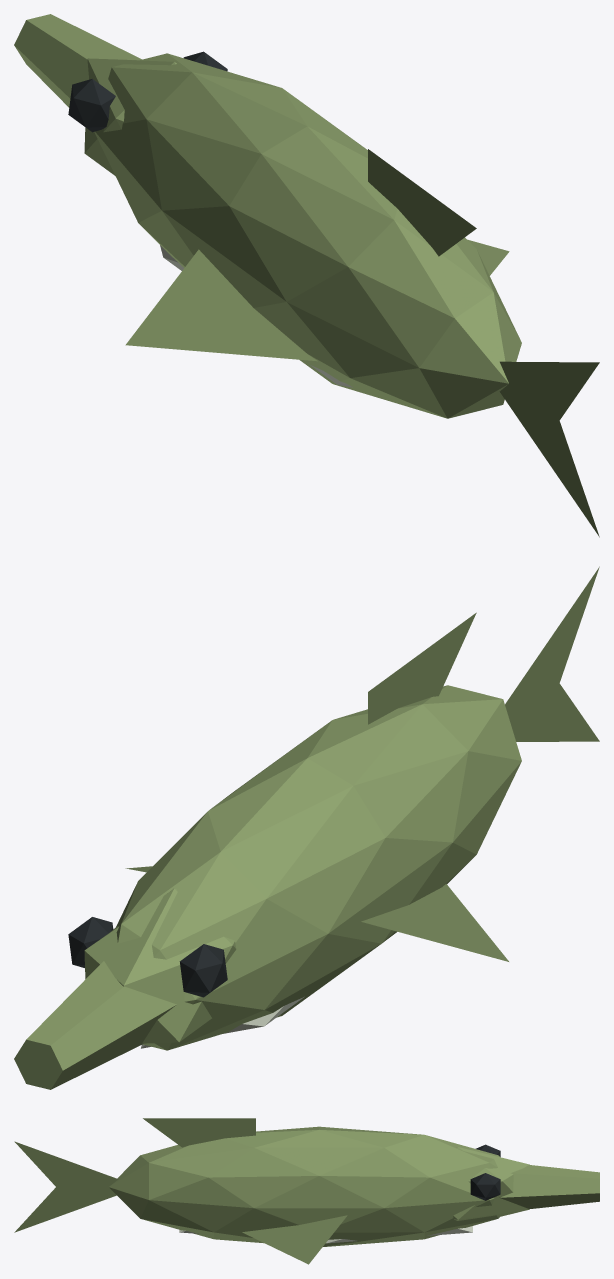
File: Pike.fbx
3 views of the same model, one above another, from view 1: azimuth 30°, elevation 25°; view 2: azimuth 150°, elevation 25°; view 3: azimuth 270°, elevation 25° (orthographic). The views are drawn at different scales.
Parts seen in each view (by area): view 1: Body, Pectoral1, TailFin, Snout, DorsalFin, Head, Eye1; view 2: Body, Snout, Head, TailFin, Pectoral1, DorsalFin, Eye1, Eye-1; view 3: Body, TailFin, Snout, DorsalFin, Pectoral-1, Head, Eye-1, Belly.
Boxes of the visible parts, <box> form: Body: <box>94,53,521,418</box>; Pectoral1: <box>125,249,317,361</box>; TailFin: <box>499,361,599,537</box>; Snout: <box>14,14,141,107</box>; DorsalFin: <box>368,149,476,256</box>; Head: <box>84,58,176,175</box>; Eye1: <box>68,79,115,132</box>; Body: <box>116,685,521,1050</box>; Snout: <box>14,961,176,1089</box>; Head: <box>84,888,236,1043</box>; TailFin: <box>505,566,599,741</box>; Pectoral1: <box>361,884,508,961</box>; DorsalFin: <box>368,612,476,724</box>; Eye1: <box>179,944,227,997</box>; Eye-1: <box>68,917,113,967</box>; Body: <box>109,1126,501,1246</box>; TailFin: <box>14,1141,118,1232</box>; Snout: <box>499,1165,599,1209</box>; DorsalFin: <box>143,1118,255,1147</box>; Pectoral-1: <box>242,1215,347,1264</box>; Head: <box>453,1147,529,1220</box>; Eye-1: <box>470,1173,500,1200</box>; Belly: <box>179,1226,472,1243</box>.
Bounding box in the file's own units: 0.33 × 0.198 × 0.835.
